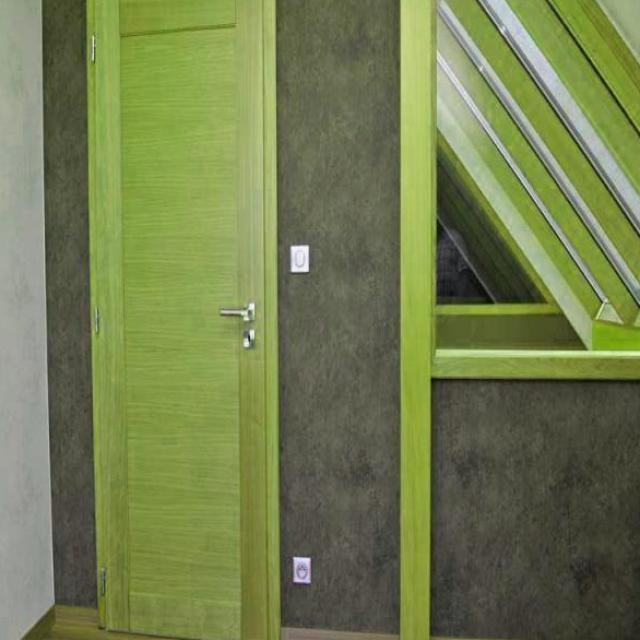door: (85, 0, 280, 639)
